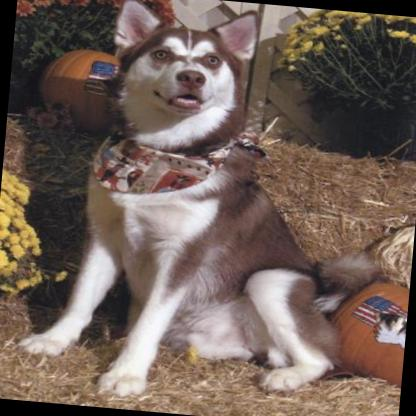Siberian_husky: (16, 0, 395, 416)
